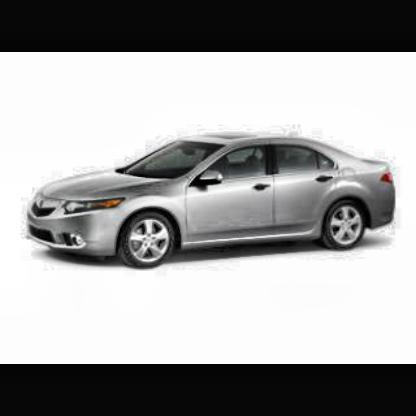Acura TSX Sedan 2012: (25, 135, 399, 274)
